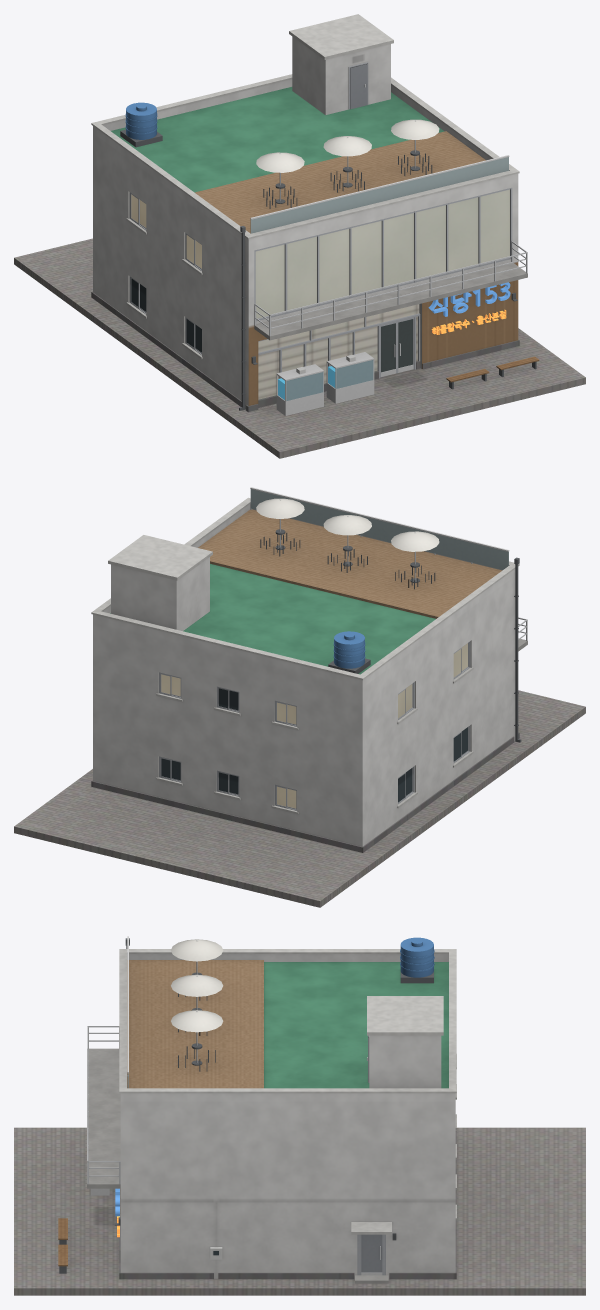
File: IlsanSikdang153_LOD1.fbx
3 views of the same model, one above another, from view 1: azimuth 30°, elevation 25°; view 2: azimuth 150°, elevation 25°; view 3: azimuth 270°, elevation 25° (orthographic). The views are drawn at different scales.
Visible parts, largest first — view 1: IlsanSikdang153_LOD1; view 2: IlsanSikdang153_LOD1; view 3: IlsanSikdang153_LOD1.
Boxes of the visible parts, x1,y1,x2,y2 form: IlsanSikdang153_LOD1: (14,14,585,458); IlsanSikdang153_LOD1: (14,487,585,907); IlsanSikdang153_LOD1: (14,936,585,1295).
Size of the model in its own units: 15.95 by 11.45 by 23.9.
Materials: 1 (1 with a texture image).
